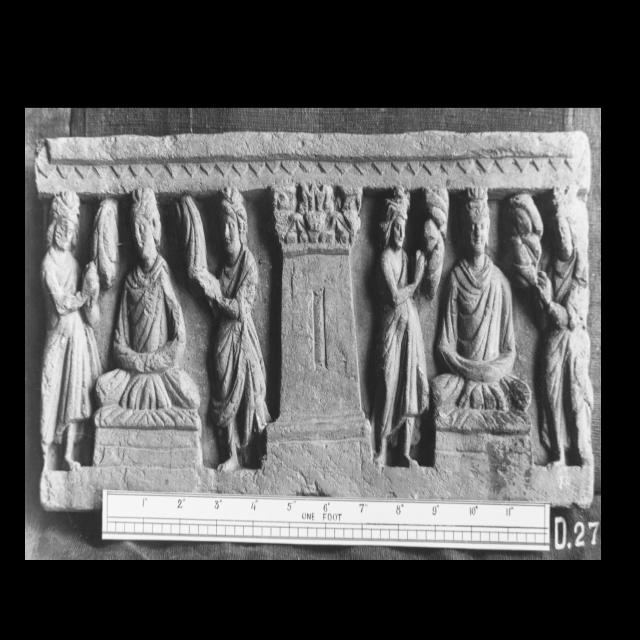buddha-sitting: (95, 189, 200, 429), (431, 193, 531, 433)
